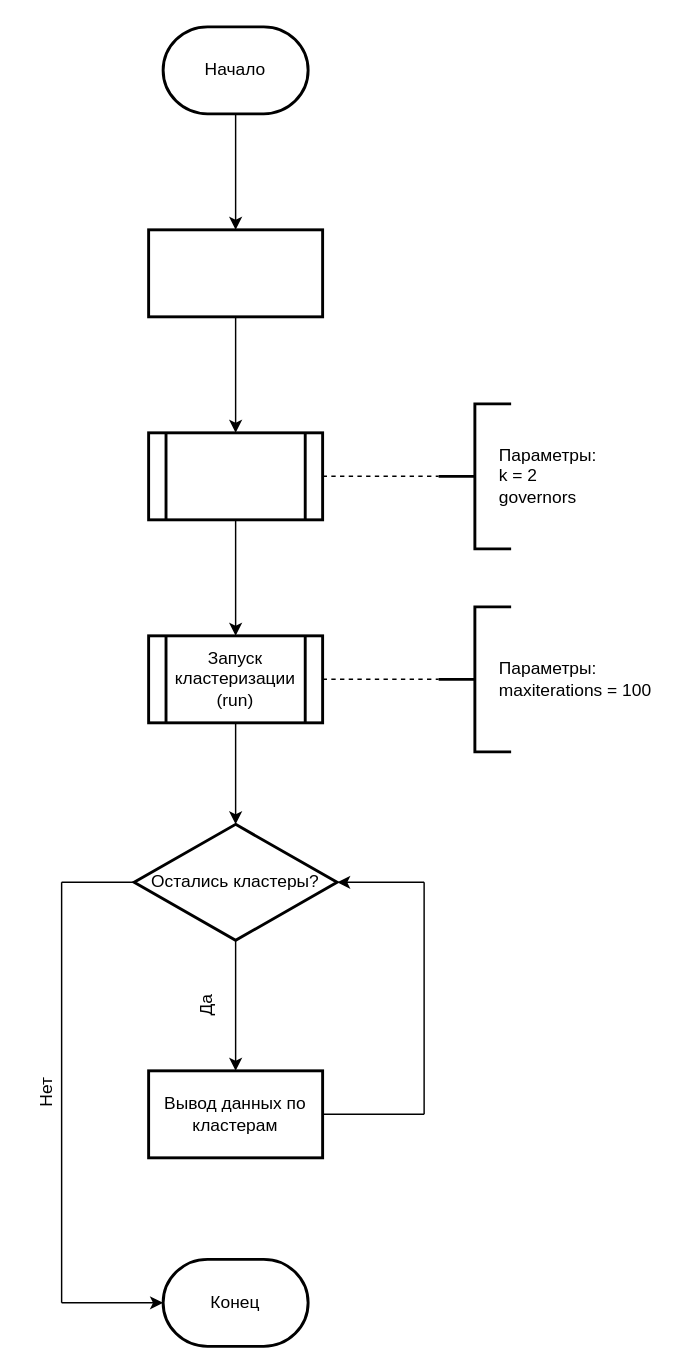
The diagram is 680 pixels wide and 1372 high, and some of its shapes have lost their labels. Here are the shapes that lost their labels. From the top down, the centre of each, then its label:
(234,273): Создание списка губернаторов List<Governor> governors
(234,476): Инициализация KMeans
